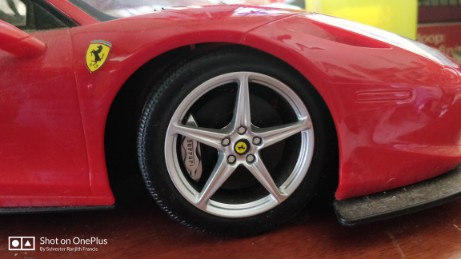unaligned_wheel: (142, 47, 335, 240)
